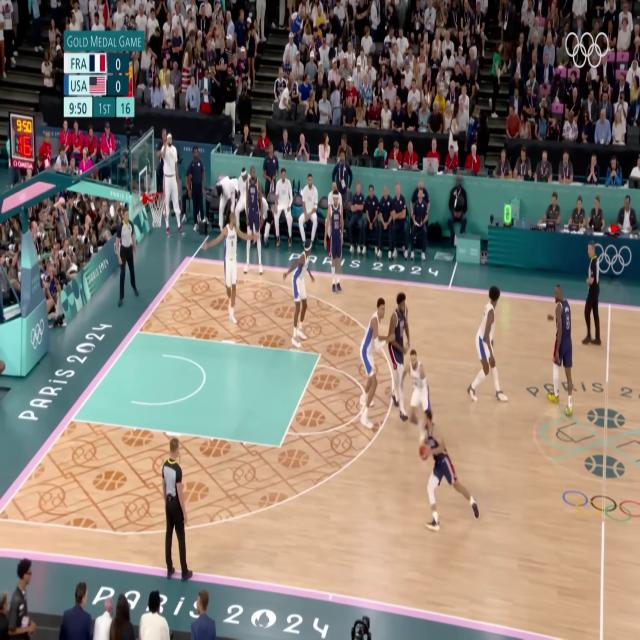ball-handler: (411, 410, 486, 537)
player: (202, 212, 260, 330), (467, 281, 509, 413), (351, 294, 388, 434), (546, 282, 578, 415), (279, 237, 313, 351), (387, 292, 410, 420), (242, 168, 268, 279), (404, 340, 436, 420), (328, 191, 347, 300)
